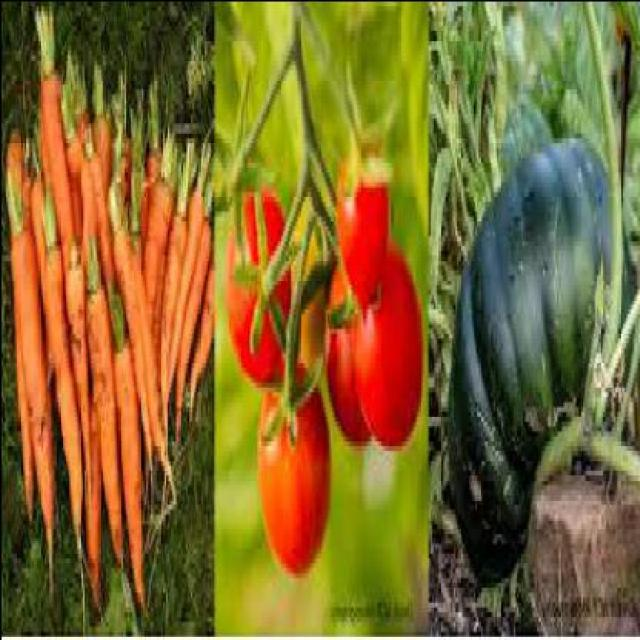BIODEGRADABLE: (448, 126, 632, 582), (1, 166, 56, 596), (259, 351, 332, 567), (354, 235, 424, 450), (110, 176, 155, 498), (132, 161, 176, 484), (44, 175, 82, 532), (226, 185, 291, 381), (88, 225, 126, 557), (109, 278, 146, 611), (173, 162, 215, 444), (160, 128, 194, 444), (168, 137, 210, 386), (35, 2, 74, 260), (293, 171, 342, 366), (326, 244, 372, 450), (9, 122, 33, 513), (337, 142, 389, 308), (143, 122, 182, 298), (32, 122, 56, 386), (68, 229, 90, 503), (77, 127, 111, 284), (190, 254, 215, 415), (86, 386, 102, 606), (60, 68, 85, 201), (92, 48, 113, 172), (112, 63, 132, 171), (67, 49, 90, 142), (132, 73, 152, 172), (78, 142, 94, 249), (146, 78, 163, 171)
